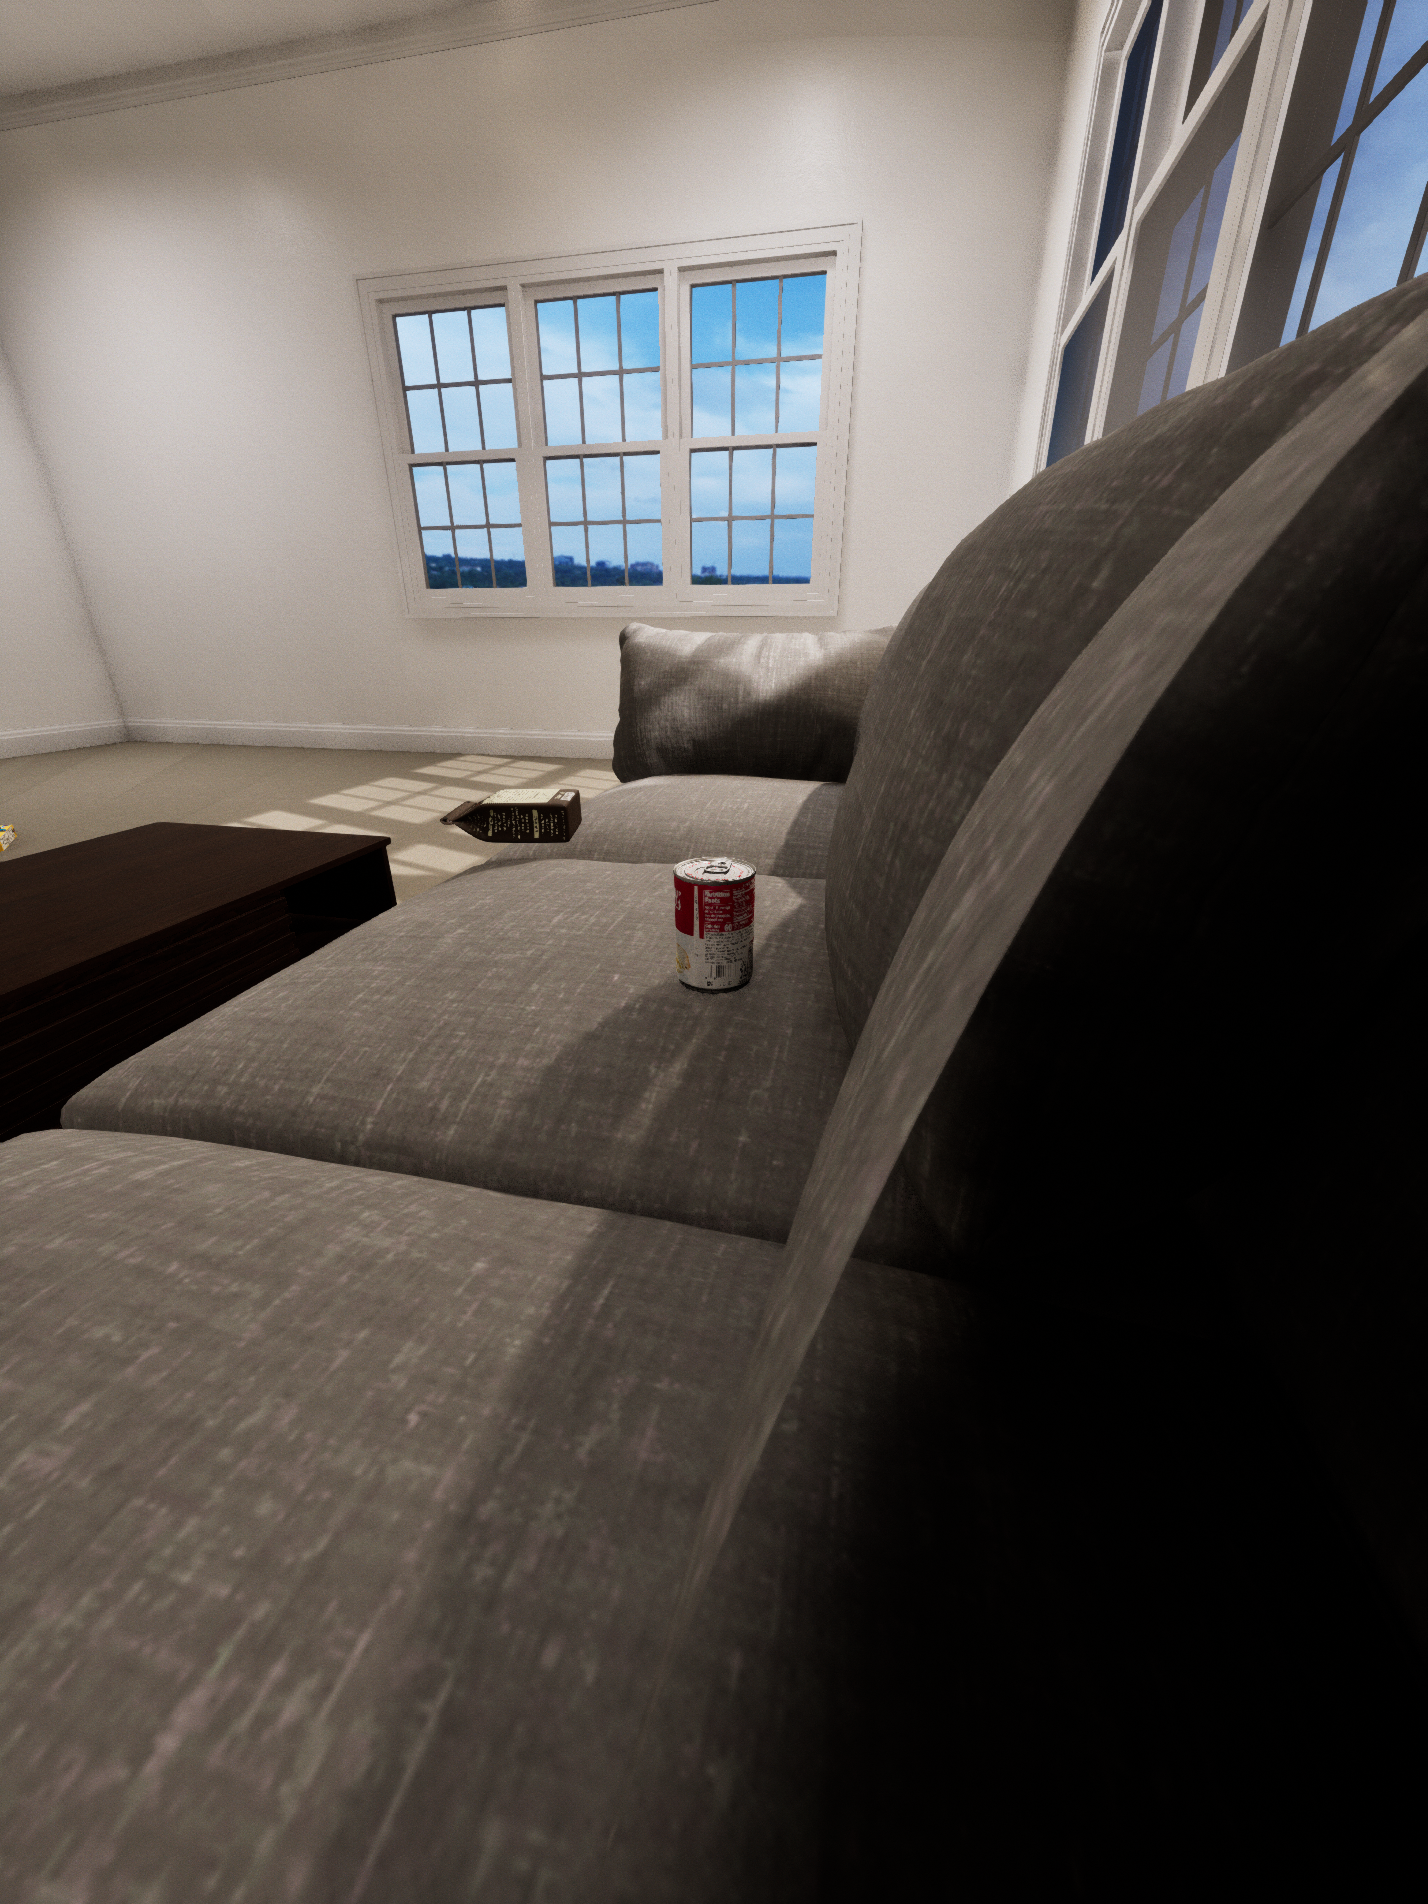soup: (673, 858, 756, 994)
